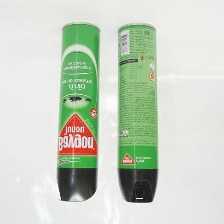aerosol_cans: (53, 20, 104, 204), (112, 20, 160, 205)
